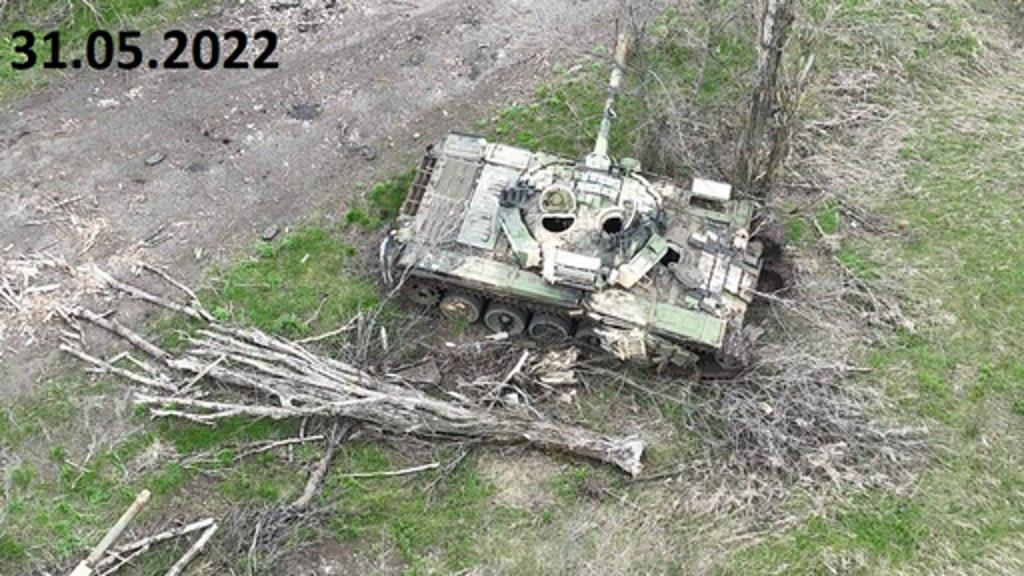TANK: (378, 30, 762, 390)
